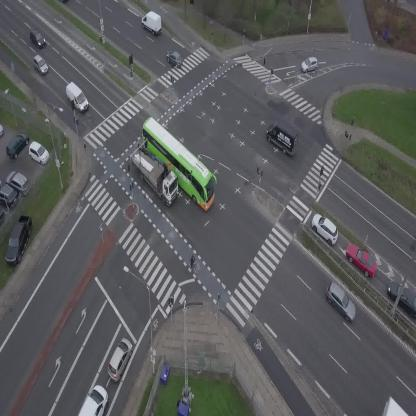bicycle: (186, 255, 201, 275)
bus: (128, 114, 228, 213)
car: (319, 279, 361, 324), (341, 238, 383, 282), (103, 336, 137, 384), (306, 209, 344, 247), (78, 381, 114, 416), (163, 47, 187, 70), (28, 53, 50, 77), (26, 27, 48, 51), (299, 56, 319, 74)
lorry: (123, 141, 188, 208), (260, 116, 305, 158), (61, 80, 92, 113), (138, 7, 167, 37)
